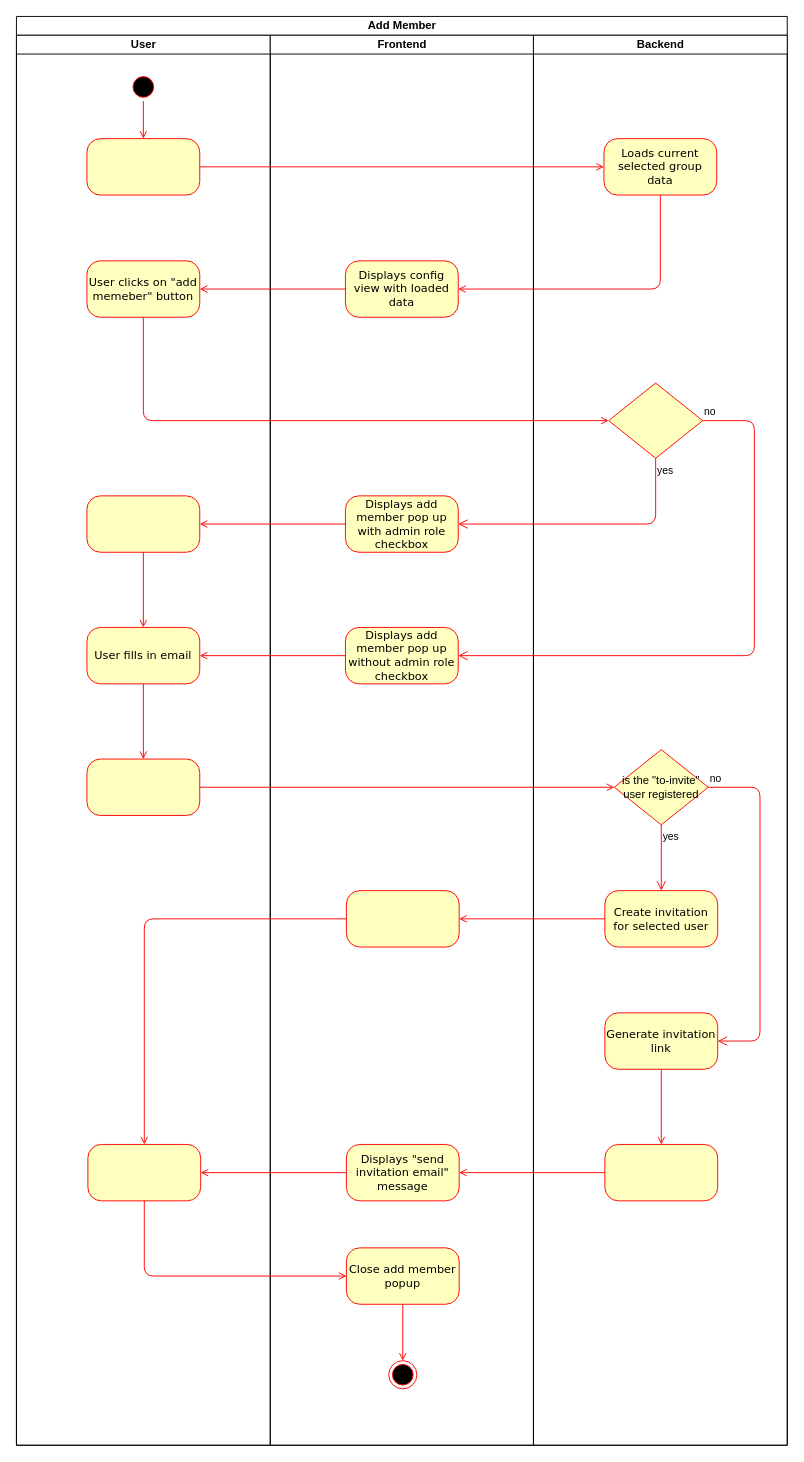
Image size: 804x1462. Some labels were removed from this diagram. Each missing label, with the centre of its shape:
Displays "user invited" message: [402,918]
Send invitation link to email address: [661,1172]
User clicks on "edit button" for group settings: [143,166]
User clicks on "invite button": [143,786]
User clicks on "ok button": [144,1172]
User decides to check or uncheck checkbox: [143,523]
User has higher role than member: [655,420]
